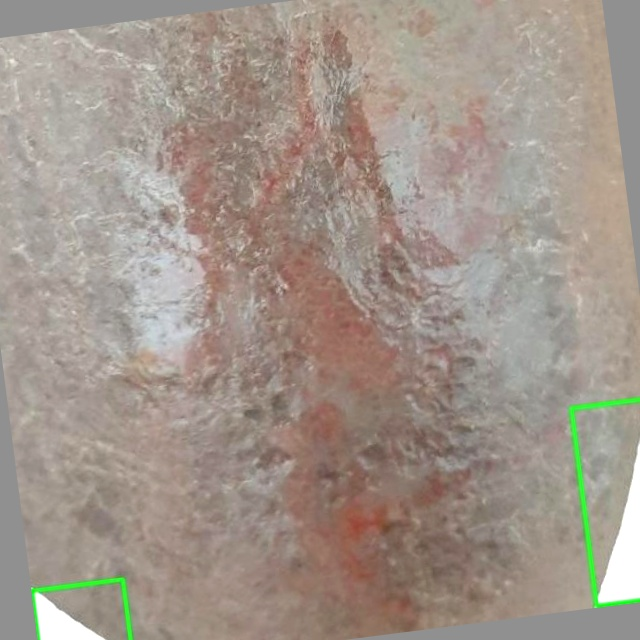Contact Dermatitis: (571, 400, 639, 606), (32, 579, 130, 639)
